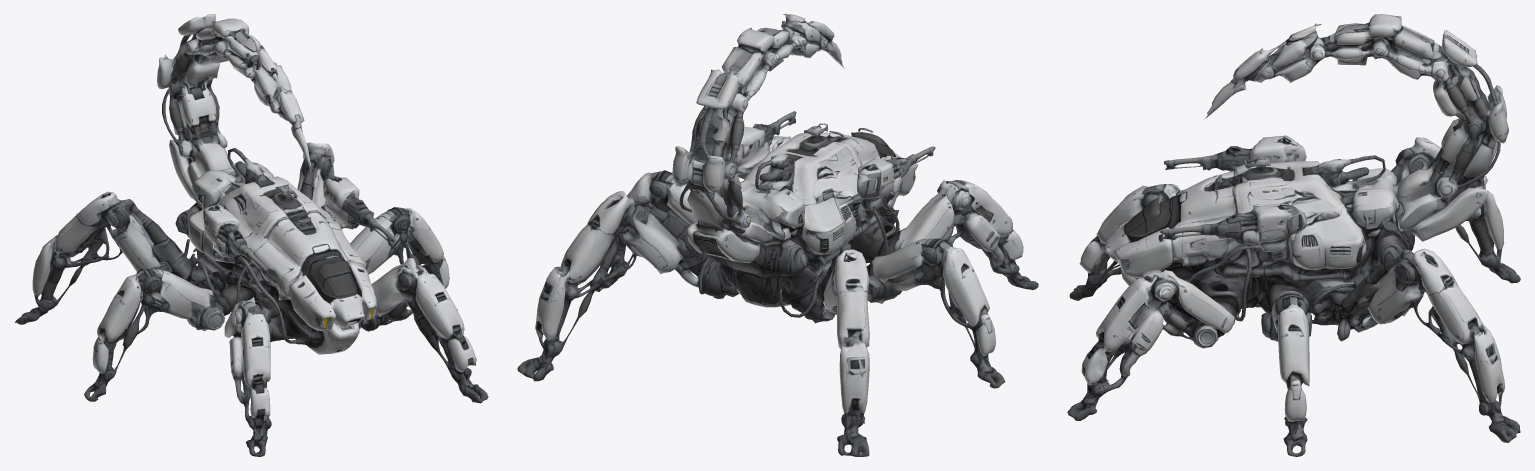
Rendered from scorpion.glb.
The picture shows the model from 3 angles, left to right: view 1: azimuth 30°, elevation 25°; view 2: azimuth 150°, elevation 25°; view 3: azimuth 270°, elevation 25°; orthographic projection. The views are drawn at different scales.
Visible parts, largest first — view 1: body, tail, left rear leg, left side leg, front right leg, front left leg, right side leg, right rear leg, front ramp; view 2: body, tail, right rear leg, left rear leg, left side leg, front left leg, right side leg; view 3: body, tail, right rear leg, front right leg, right side leg, left rear leg, front left leg.
Part boxes in pixels (x1,y1,x2,y2): body: (175,148,395,340); tail: (157,14,312,200); left rear leg: (14,191,220,324); left side leg: (84,268,230,401); front right leg: (360,258,488,403); front left leg: (224,297,281,456); right side leg: (350,207,457,310); right rear leg: (297,142,334,207); front ramp: (279,311,359,354); body: (702,111,935,307); tail: (672,14,844,262); right rear leg: (517,191,738,381); left rear leg: (778,245,869,456); left side leg: (866,238,1005,388); front left leg: (881,180,1038,290); right side leg: (595,170,697,291); body: (1105,135,1414,321); tail: (1203,14,1508,241); right rear leg: (1310,248,1520,442); front right leg: (1067,269,1235,420); right side leg: (1261,291,1311,456); left rear leg: (1391,137,1520,283); front left leg: (1069,184,1180,300).
Size of the model in its own units: 1.86 by 1.47 by 1.78.
6 materials, 6 textured.
